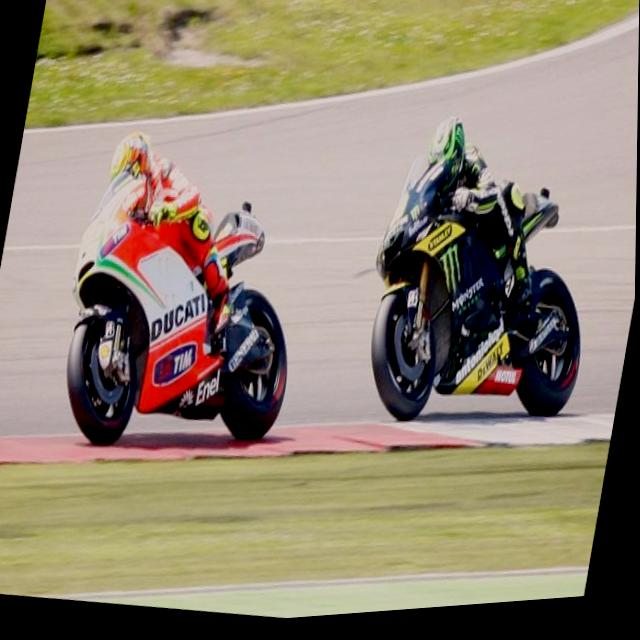motorcycle: (27, 146, 337, 495), (340, 132, 620, 466)
